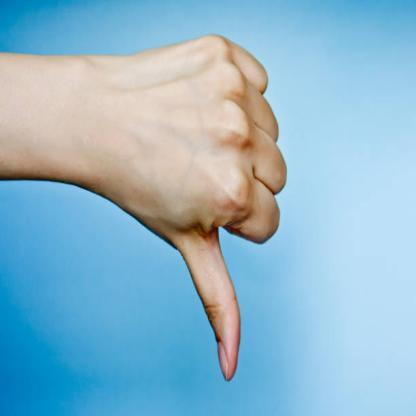thumb_down: (134, 30, 290, 386)
